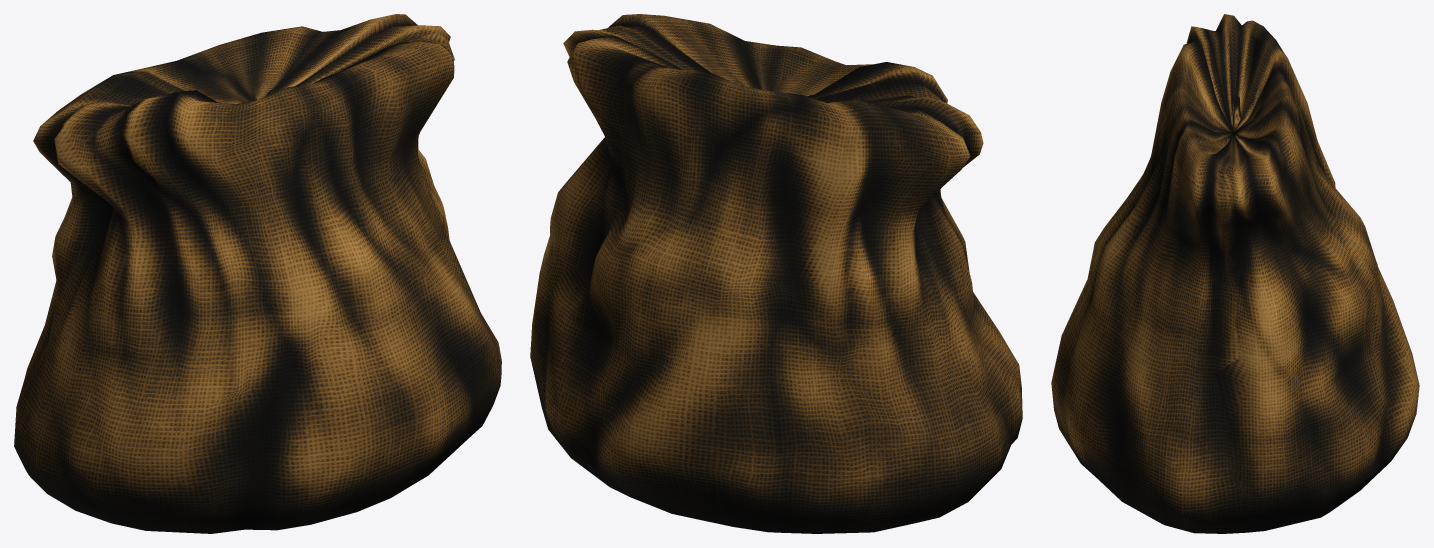
The model's file is mm6_deco_floursac.glb.
3 views of the same model, side by side, from view 1: azimuth 30°, elevation 25°; view 2: azimuth 150°, elevation 25°; view 3: azimuth 270°, elevation 25° (orthographic). The views are drawn at different scales.
Parts seen in each view (by area): view 1: FlourSack; view 2: FlourSack; view 3: FlourSack.
Boxes of the visible parts, x1,y1,x2,y2 form: FlourSack: (14, 14, 501, 533); FlourSack: (530, 14, 1022, 533); FlourSack: (1051, 14, 1419, 533).
Bounding box in the file's own units: 1.12 × 1.01 × 0.8845.
1 material, 1 textured.
